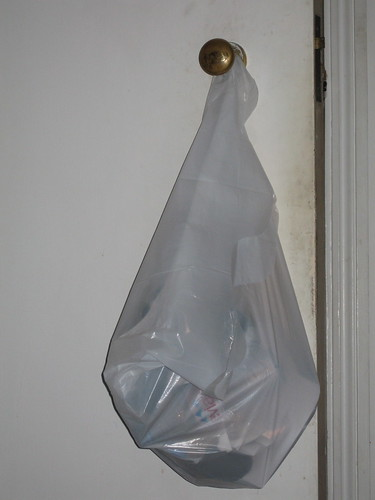plastic bag: (100, 55, 322, 489)
